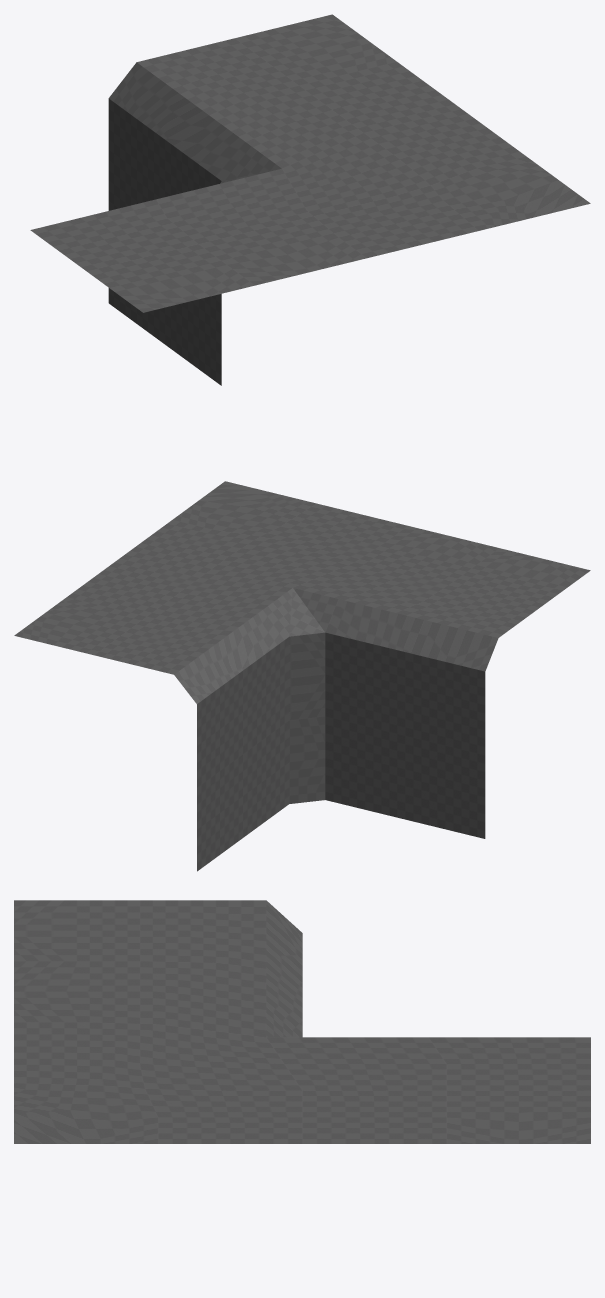
The picture shows the model from 3 angles, top to bottom: view 1: azimuth 30°, elevation 25°; view 2: azimuth 150°, elevation 25°; view 3: azimuth 270°, elevation 25°; orthographic projection. The views are drawn at different scales.
Visible parts, largest first — view 1: 0; view 2: 0; view 3: 0.
Boxes of the visible parts, <box> form: 0: <box>30,14,590,385</box>; 0: <box>14,481,590,871</box>; 0: <box>14,900,590,1143</box>.
Bounding box in the file's own units: 4 × 2 × 4.
1 material, 1 textured.
